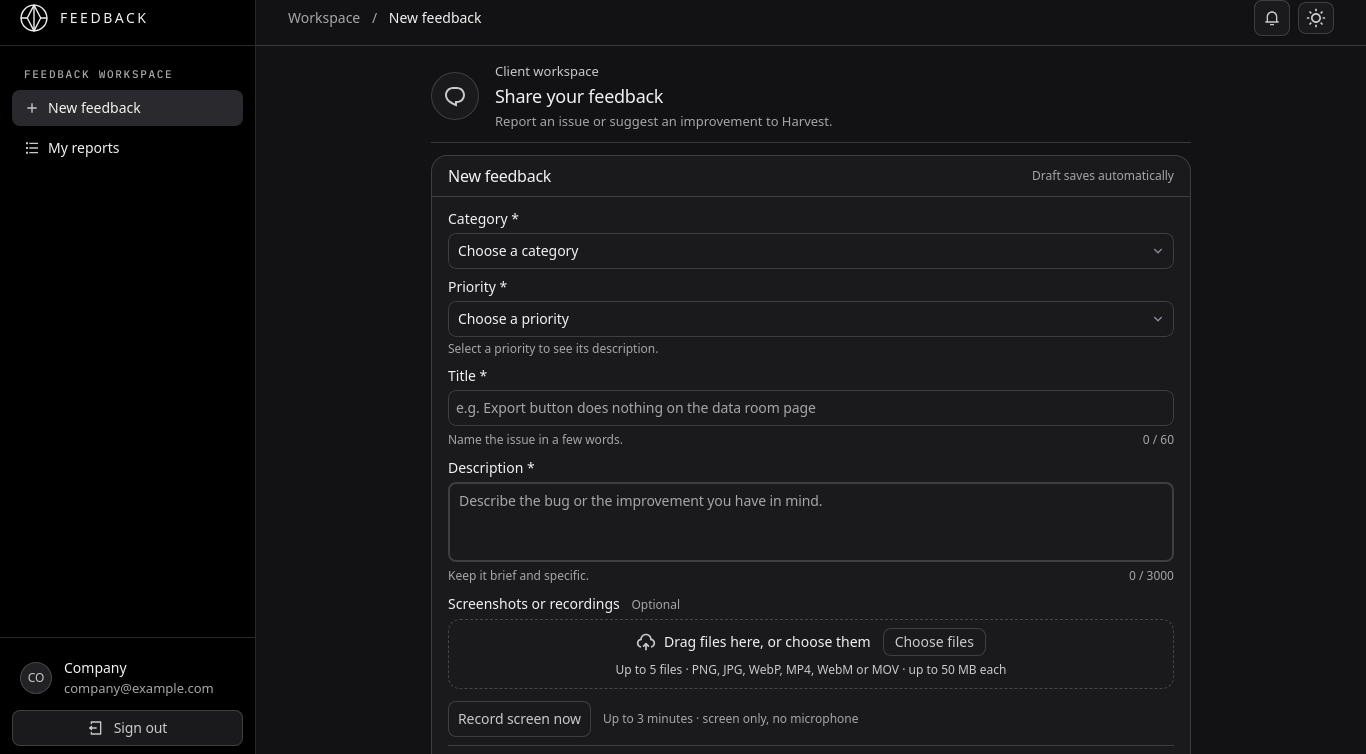
connects the authenticated form, shared options, API and success navigation
Select "Other — add an area" in the dropdown labelled "Category *" at (811, 251), box [448,233,1174,269]
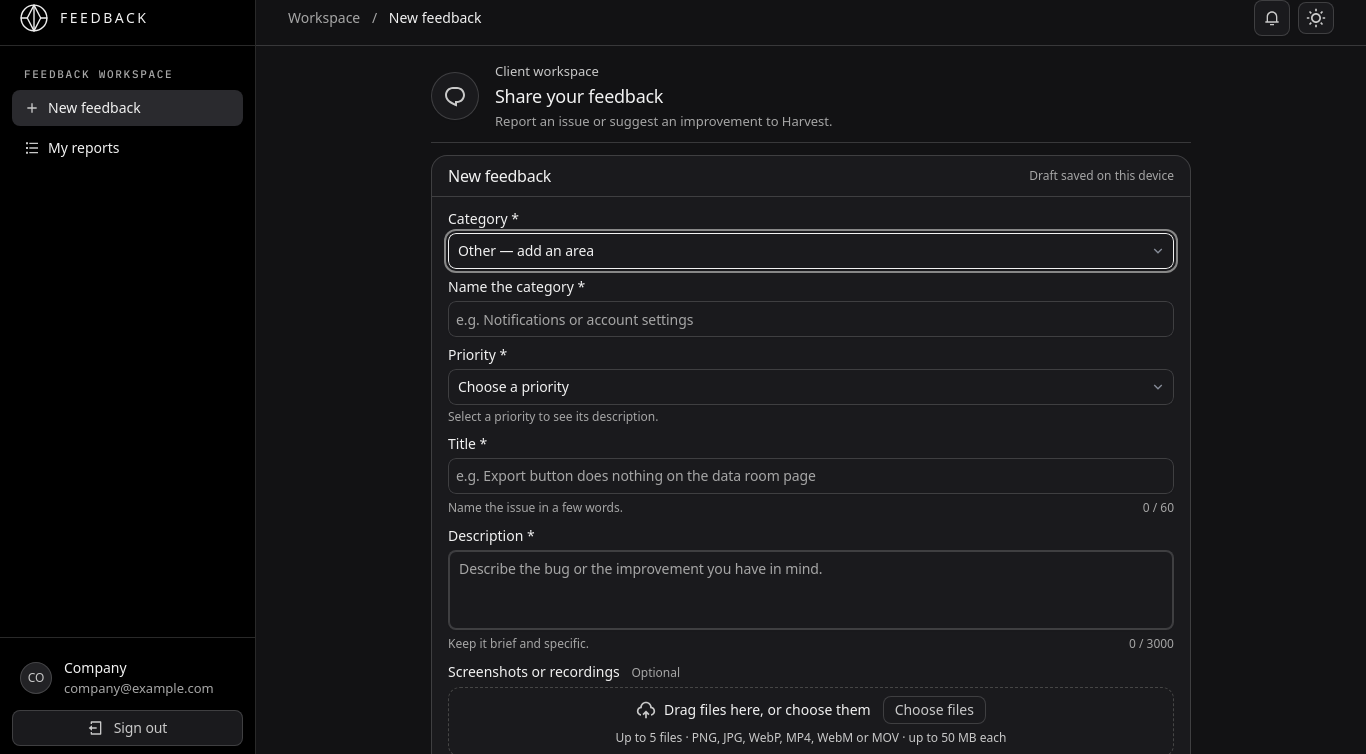
Type "Account settings" into the field labelled "Name the category *" at (811, 319), box [456,301,1166,337]
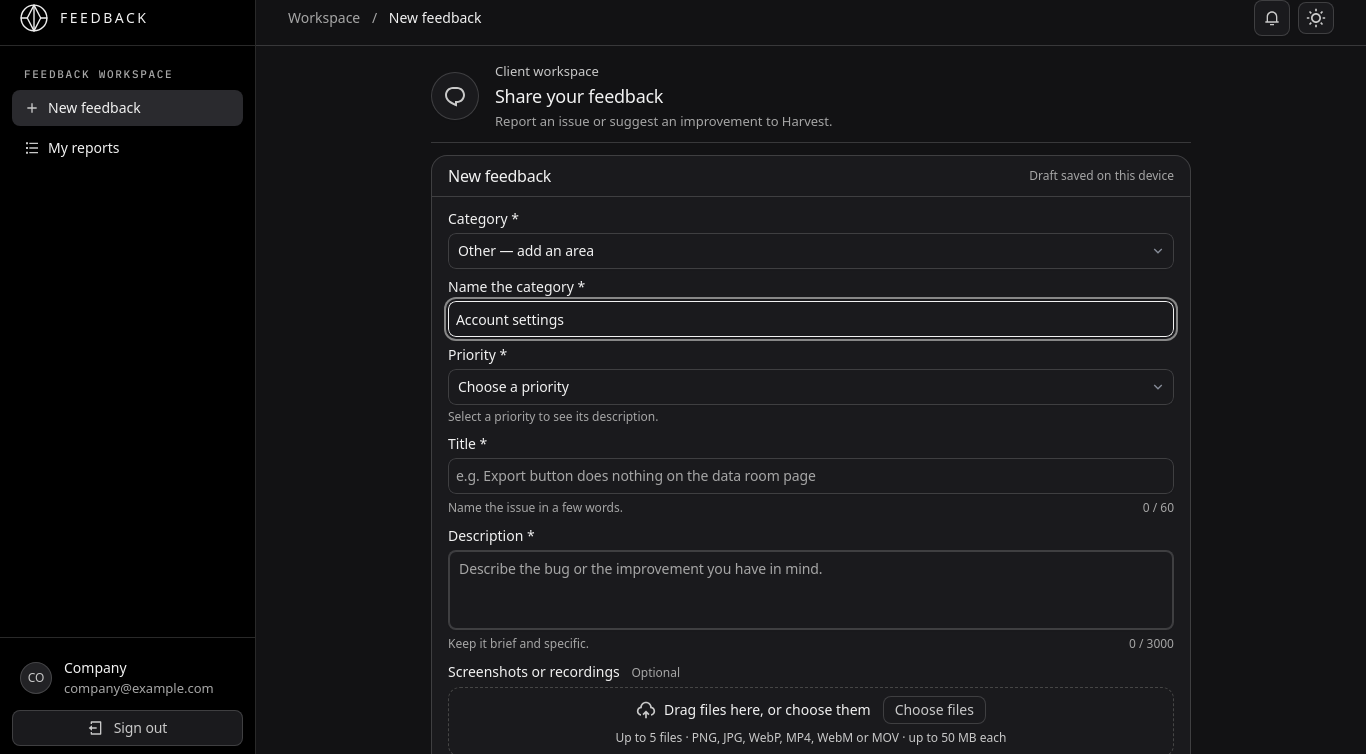
Select "Blocker" in the dropdown labelled "Priority *" at (811, 387), box [448,369,1174,405]
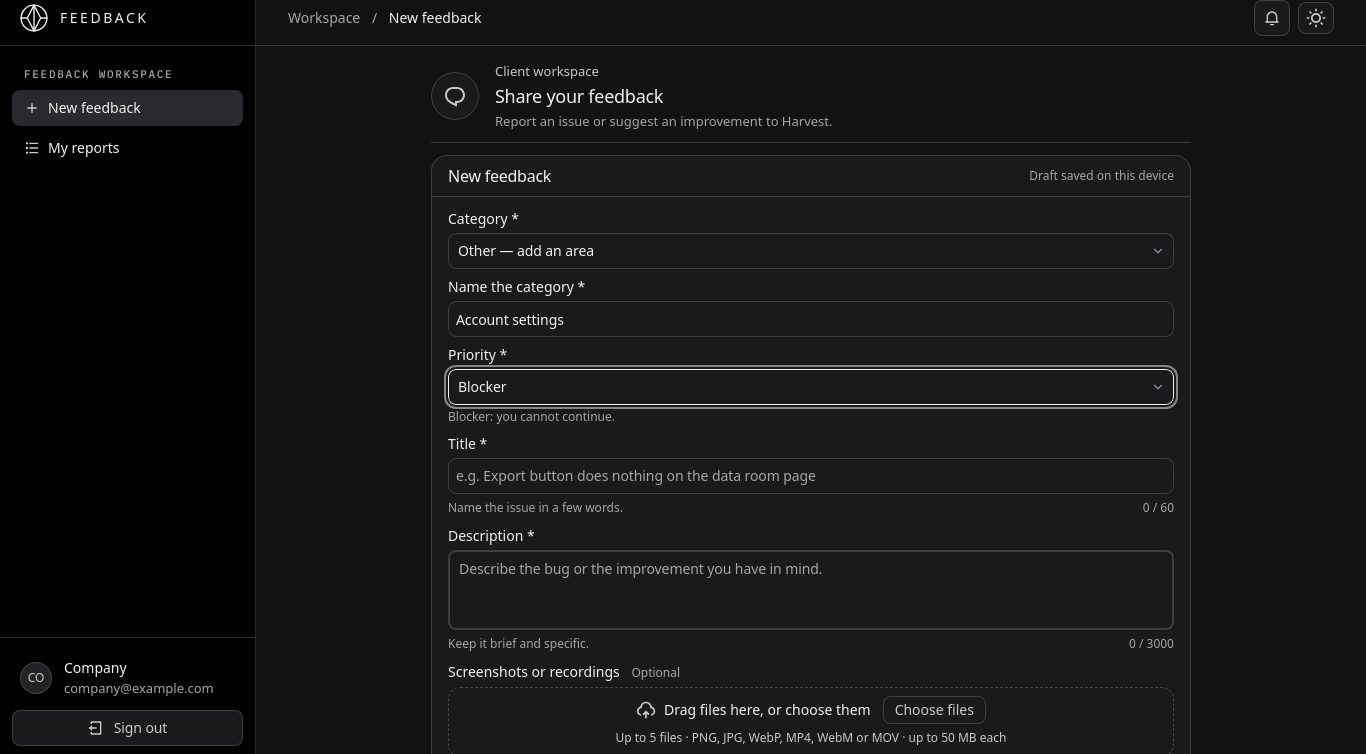
Type "Account settings will not open" into the field labelled "Title *" at (811, 476), box [456,458,1166,494]
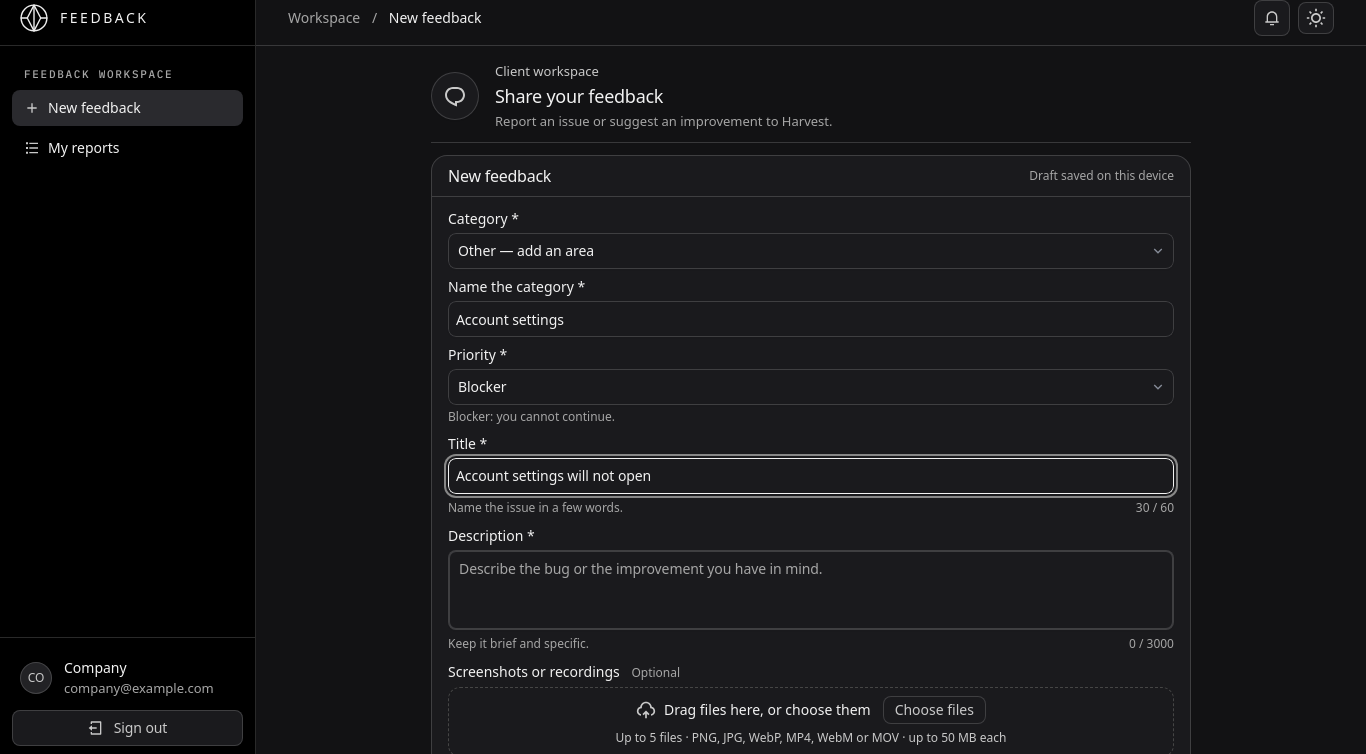
Type "Cannot open account settings" into the text box labelled "Description *" at (811, 590), box [448,550,1174,630]
(page scrolled)
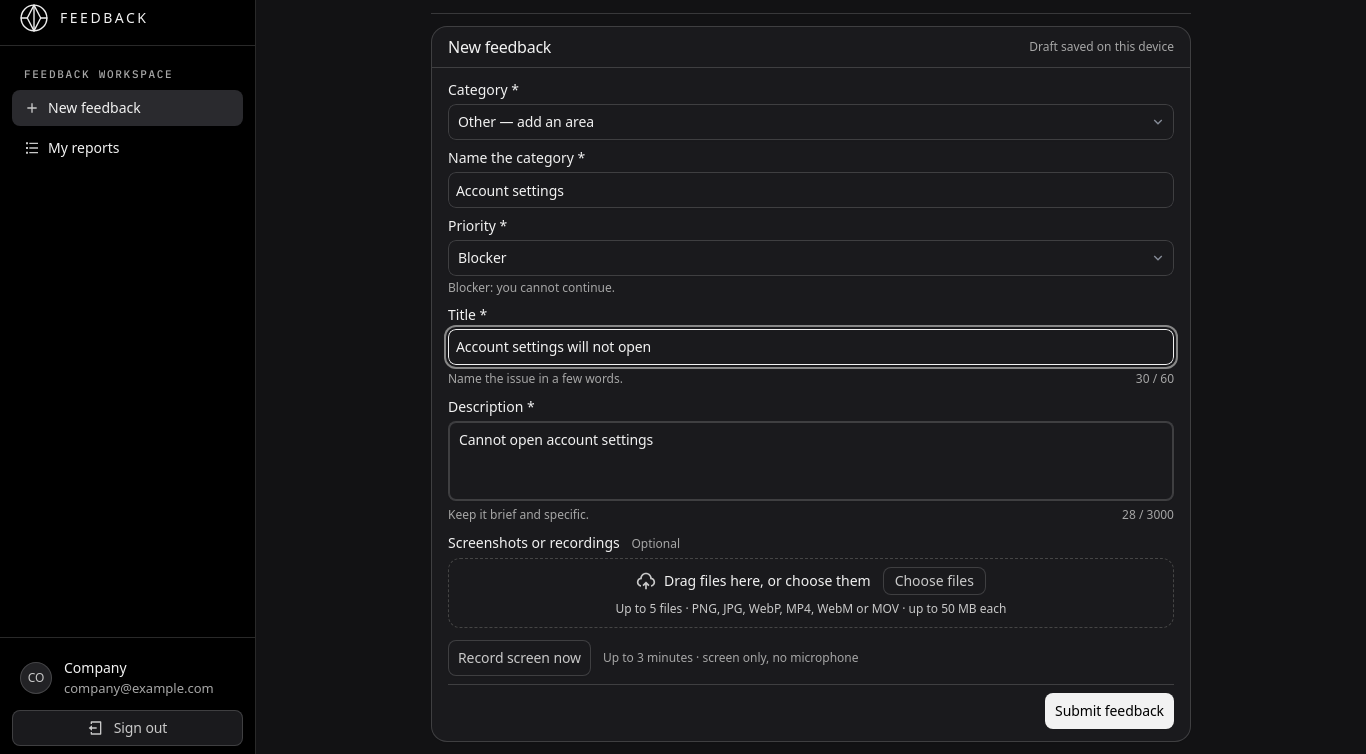
Click the button "Submit feedback" at (1110, 711), box [1045,693,1174,729]
(page scrolled)
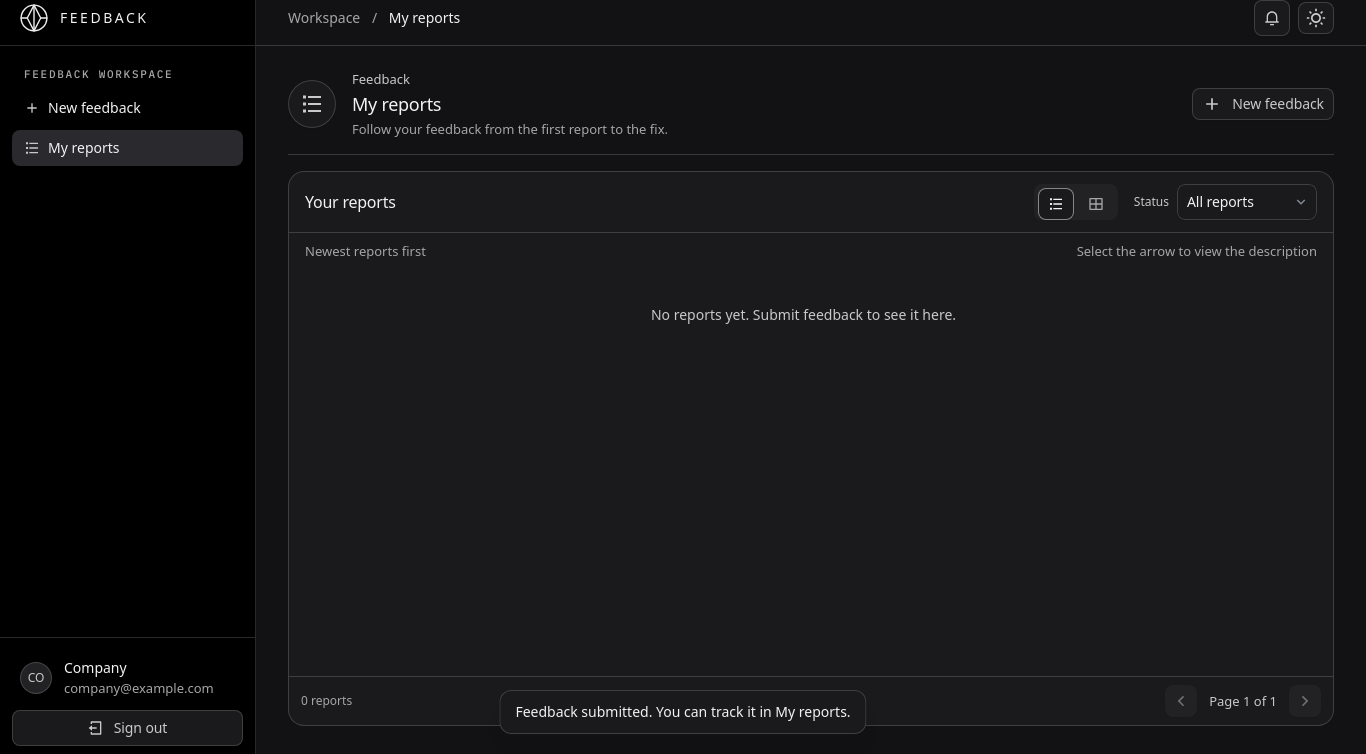
Expected: the heading "My reports" is shown, [352,92,441,116]
Expected: the text "Feedback submitted. You can track it in My reports." is shown, [499,690,867,734]
